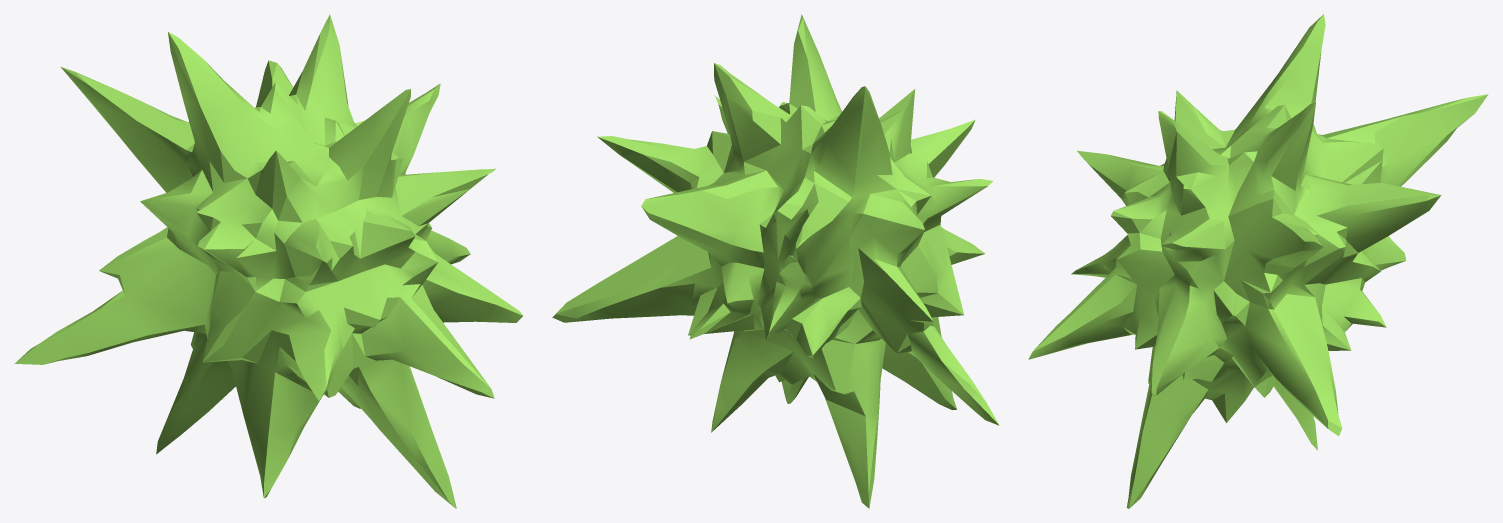
The model's file is vox_deposit_mineral04.fbx.
3 renders of one model, left to right at view 1: azimuth 30°, elevation 25°; view 2: azimuth 150°, elevation 25°; view 3: azimuth 270°, elevation 25°, orthographic. The views are drawn at different scales.
Visible parts, largest first — view 1: vox_deposit_mineral04; view 2: vox_deposit_mineral04; view 3: vox_deposit_mineral04.
Boxes of the visible parts, left/top/right/bottom form: vox_deposit_mineral04: left=14, top=14, right=522, bottom=508; vox_deposit_mineral04: left=552, top=14, right=999, bottom=508; vox_deposit_mineral04: left=1028, top=14, right=1488, bottom=508.
Bounding box in the file's own units: 165 × 154 × 156.
